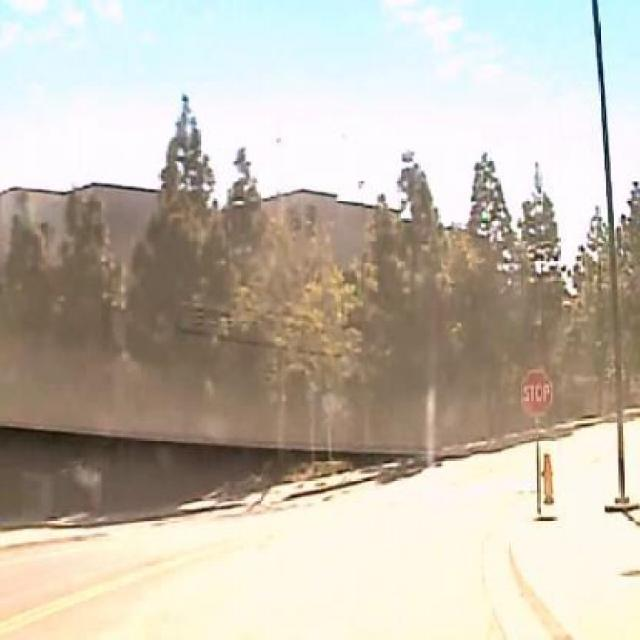Stop: (518, 369, 554, 418)
